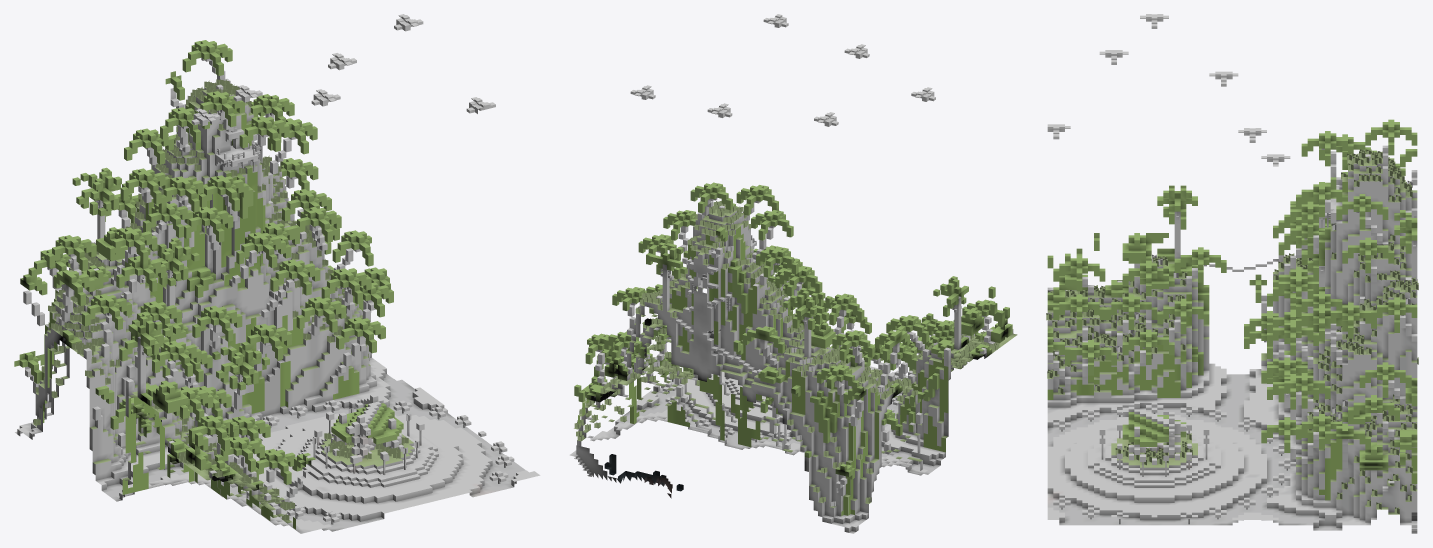
3 renders of one model, left to right at view 1: azimuth 30°, elevation 25°; view 2: azimuth 150°, elevation 25°; view 3: azimuth 270°, elevation 25°, orthographic. The views are drawn at different scales.
Parts seen in each view (by area): view 1: recorte, opaco; view 2: recorte, opaco; view 3: recorte, opaco.
Part boxes in pixels (x1,y1,x2,y2): recorte: (14, 14, 514, 529); opaco: (15, 18, 540, 533); recorte: (574, 14, 1017, 516); opaco: (569, 17, 1013, 533); recorte: (1046, 14, 1418, 533); opaco: (1047, 14, 1417, 530).
Size of the model in its own units: 64.28 by 78.38 by 64.41.
